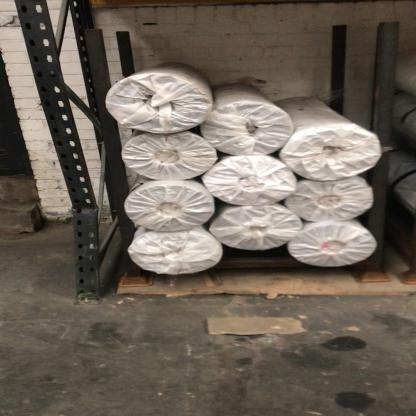vertical_damage: (46, 124, 114, 261)
